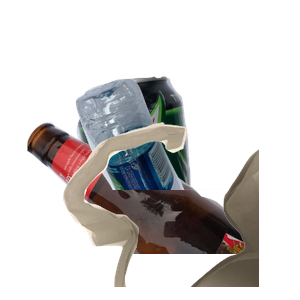glass: (25, 120, 265, 300)
metal: (74, 74, 257, 254)
plastic: (73, 76, 300, 256)
trash: (60, 120, 300, 300)
